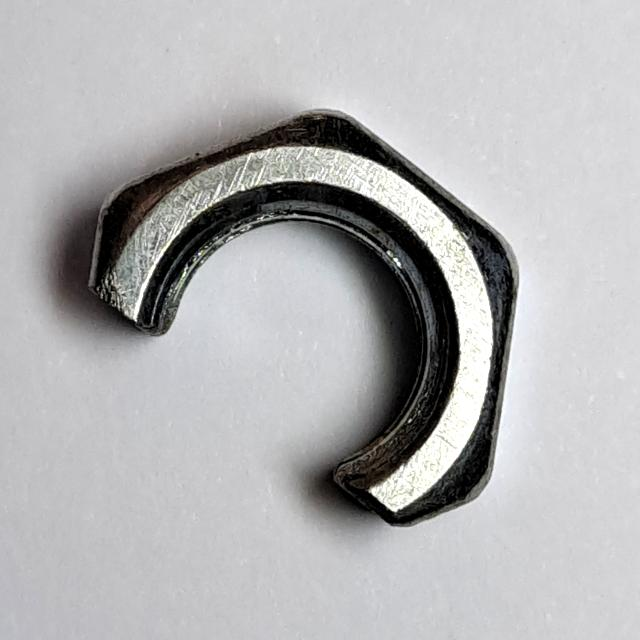Fracture: (77, 100, 529, 544)
